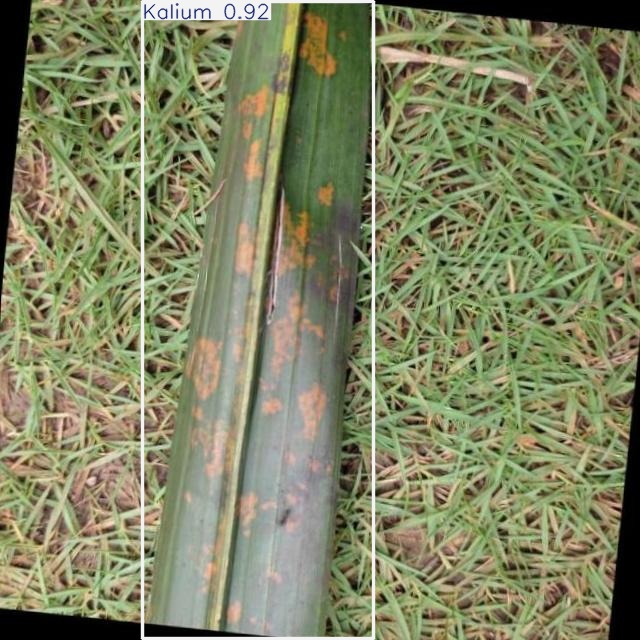Kalium: (143, 1, 373, 638)
